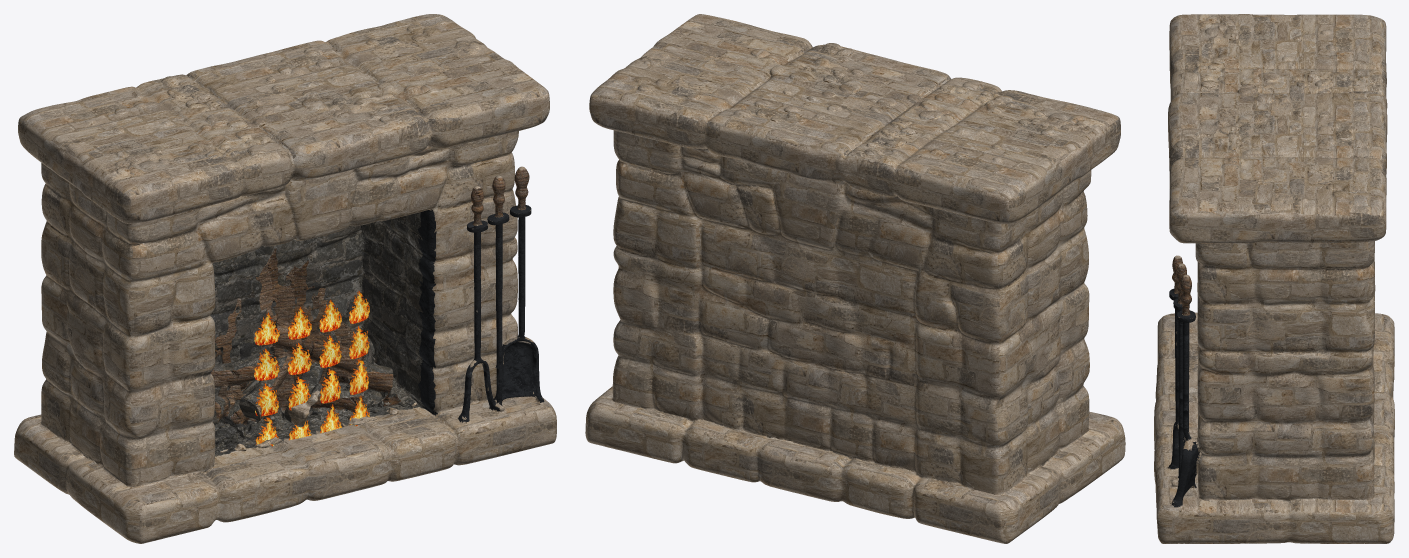
File: stone-hearth-v01.glb
The picture shows the model from 3 angles, left to right: view 1: azimuth 30°, elevation 25°; view 2: azimuth 150°, elevation 25°; view 3: azimuth 270°, elevation 25°; orthographic projection. The views are drawn at different scales.
Parts seen in each view (by area): view 1: stone-hearth, Hearth flame; view 2: stone-hearth; view 3: stone-hearth.
Part boxes in pixels (x1=…): stone-hearth: x1=14, y1=14, x2=556, y2=543; Hearth flame: x1=254, y1=291, x2=369, y2=446; stone-hearth: x1=585, y1=14, x2=1125, y2=543; stone-hearth: x1=1154, y1=14, x2=1394, y2=543.
Bounding box in the file's own units: 2.79 × 2.19 × 1.41.
8 materials, 8 textured.
